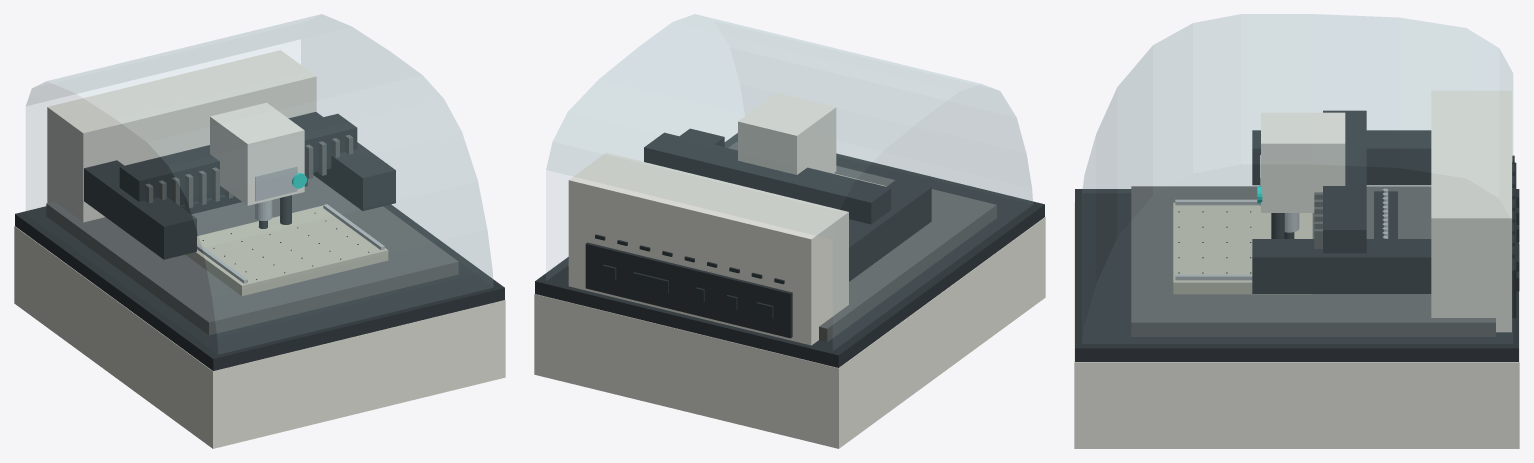
File: protomat-s104.glb
The picture shows the model from 3 angles, left to right: view 1: azimuth 30°, elevation 25°; view 2: azimuth 150°, elevation 25°; view 3: azimuth 270°, elevation 25°; orthographic projection. The views are drawn at different scales.
Visible parts, largest first — view 1: hood_glazing, case_outer, granite_bed, rear_housing, perimeter_dark_belt, vacuum_platen, spindle_shell, linear_support, gantry_beam, linear_support.001, spindle_face, twenty_slot_rack; view 2: hood_glazing, case_outer, rear_housing, perimeter_dark_belt, rear_port_panel, granite_bed, gantry_beam, spindle_shell, linear_support, rear_socket_extraction; view 3: hood_glazing, case_outer, granite_bed, perimeter_dark_belt, rear_housing, linear_support.001, vacuum_platen, spindle_shell, gantry_beam, linear_support, twenty_slot_rack, rear_port_panel (+2 smaller).
Part boxes in pixels (x1,y1,x2,y2): hood_glazing: (26, 14, 493, 353); case_outer: (14, 226, 505, 448); granite_bed: (46, 175, 458, 335); rear_housing: (47, 50, 316, 222); perimeter_dark_belt: (15, 204, 504, 370); vacuum_platen: (185, 205, 388, 295); spindle_shell: (210, 102, 304, 205); linear_support: (84, 160, 196, 259); gantry_beam: (119, 113, 357, 205); linear_support.001: (288, 112, 395, 210); spindle_face: (255, 166, 297, 201); twenty_slot_rack: (180, 177, 307, 214); hood_glazing: (546, 14, 1032, 350); case_outer: (534, 217, 1045, 448); rear_housing: (568, 152, 848, 345); perimeter_dark_belt: (535, 133, 1044, 367); rear_port_panel: (585, 242, 792, 338); granite_bed: (567, 141, 996, 341); gantry_beam: (644, 132, 891, 224); spindle_shell: (738, 92, 836, 174); linear_support: (849, 179, 931, 281); rear_socket_extraction: (633, 272, 668, 293); hood_glazing: (1082, 14, 1512, 343); case_outer: (1074, 202, 1519, 448); granite_bed: (1131, 186, 1495, 336); perimeter_dark_belt: (1075, 189, 1518, 361); rear_housing: (1431, 90, 1511, 332); linear_support.001: (1252, 239, 1431, 293); vacuum_platen: (1173, 202, 1312, 294); spindle_shell: (1261, 112, 1345, 212); gantry_beam: (1323, 110, 1366, 253); linear_support: (1252, 130, 1431, 185); twenty_slot_rack: (1374, 191, 1397, 238); rear_port_panel: (1512, 162, 1516, 318).
Bounding box in the file's own units: 0.68 × 0.56 × 0.8.
